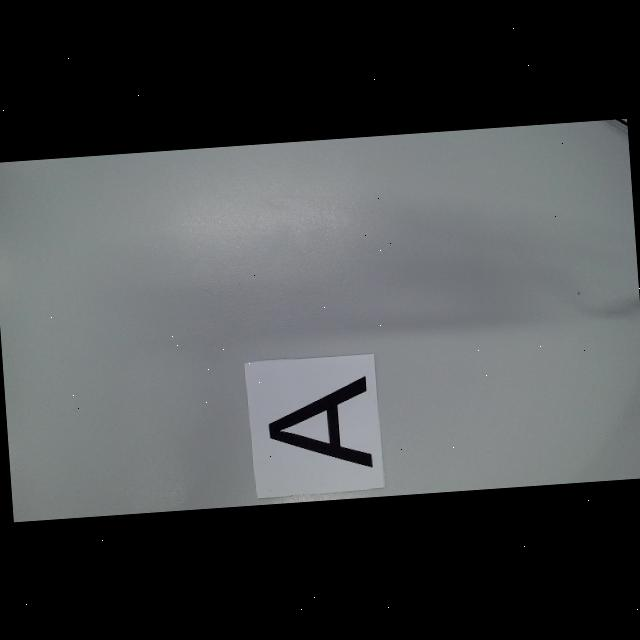FAKE: (266, 374, 373, 474)
